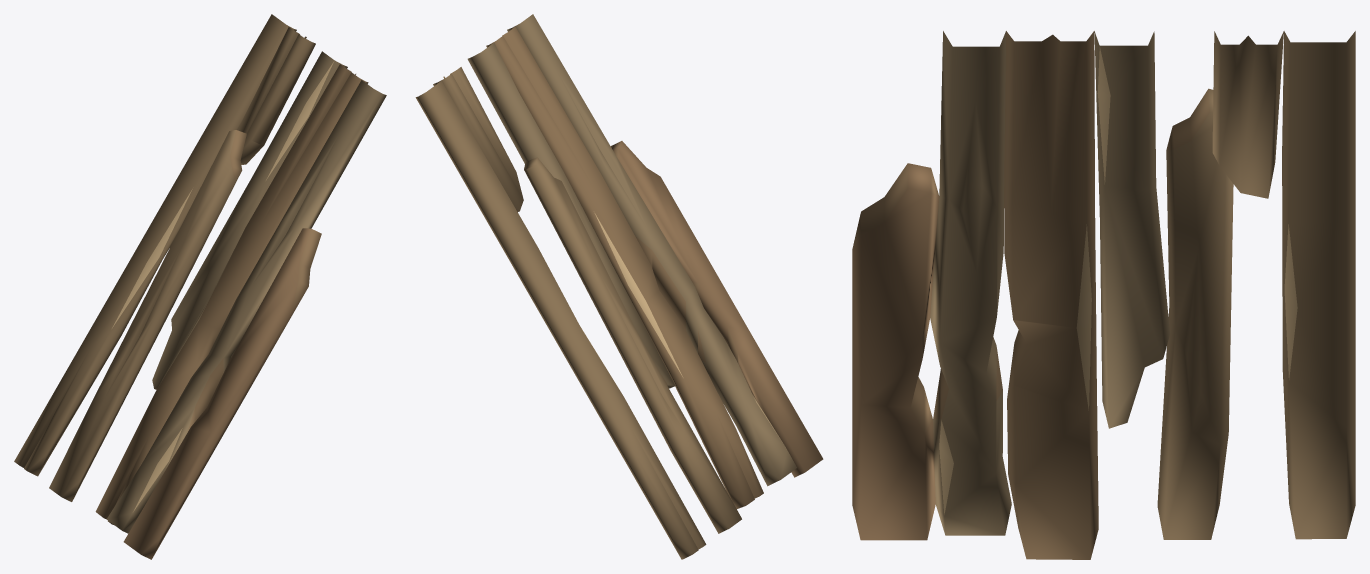
The model's file is rpgpp_av_roof_02_6x5x3_half_b.gltf.
3 views of the same model, side by side, from view 1: azimuth 30°, elevation 25°; view 2: azimuth 150°, elevation 25°; view 3: azimuth 270°, elevation 25° (orthographic). The views are drawn at different scales.
Parts seen in each view (by area): view 1: rpgpp_av_roof_02_6x5x3_half_b; view 2: rpgpp_av_roof_02_6x5x3_half_b; view 3: rpgpp_av_roof_02_6x5x3_half_b.
Part boxes in pixels (box(x1,y1,x2,y2)): rpgpp_av_roof_02_6x5x3_half_b: box(14, 14, 386, 559); rpgpp_av_roof_02_6x5x3_half_b: box(415, 14, 823, 559); rpgpp_av_roof_02_6x5x3_half_b: box(852, 31, 1355, 559).
Size of the model in its own units: 0.0357 by 0.0501 by 0.03.
1 material, 1 textured.
